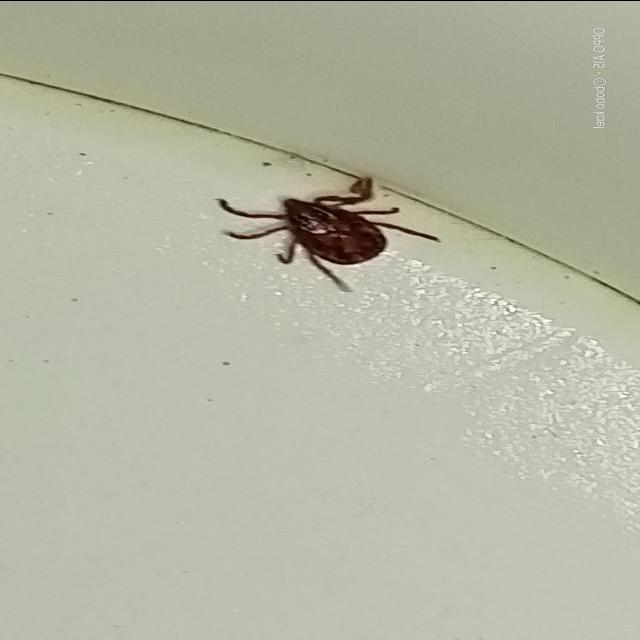Rhipicephalus Sanguineus-M: (220, 175, 449, 291)
